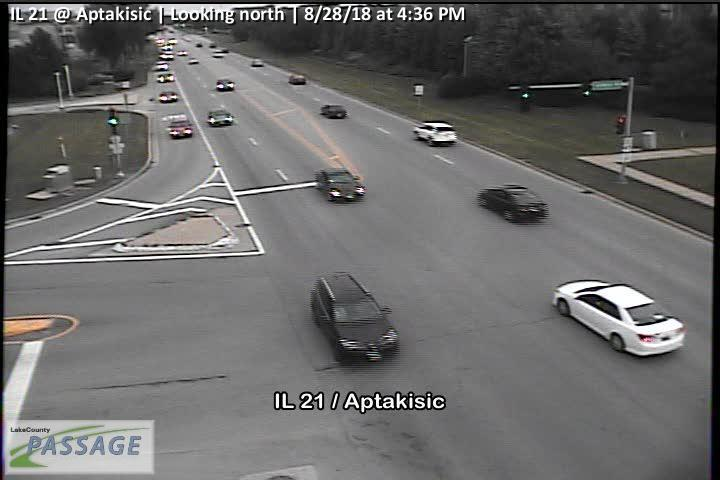SUV: (310, 273, 399, 368), (414, 121, 456, 144)
Sedan: (550, 279, 686, 357), (313, 167, 365, 202), (167, 115, 193, 138), (320, 102, 347, 120), (208, 111, 233, 127), (216, 79, 235, 91), (159, 91, 178, 102), (156, 73, 174, 82), (290, 75, 306, 83)
